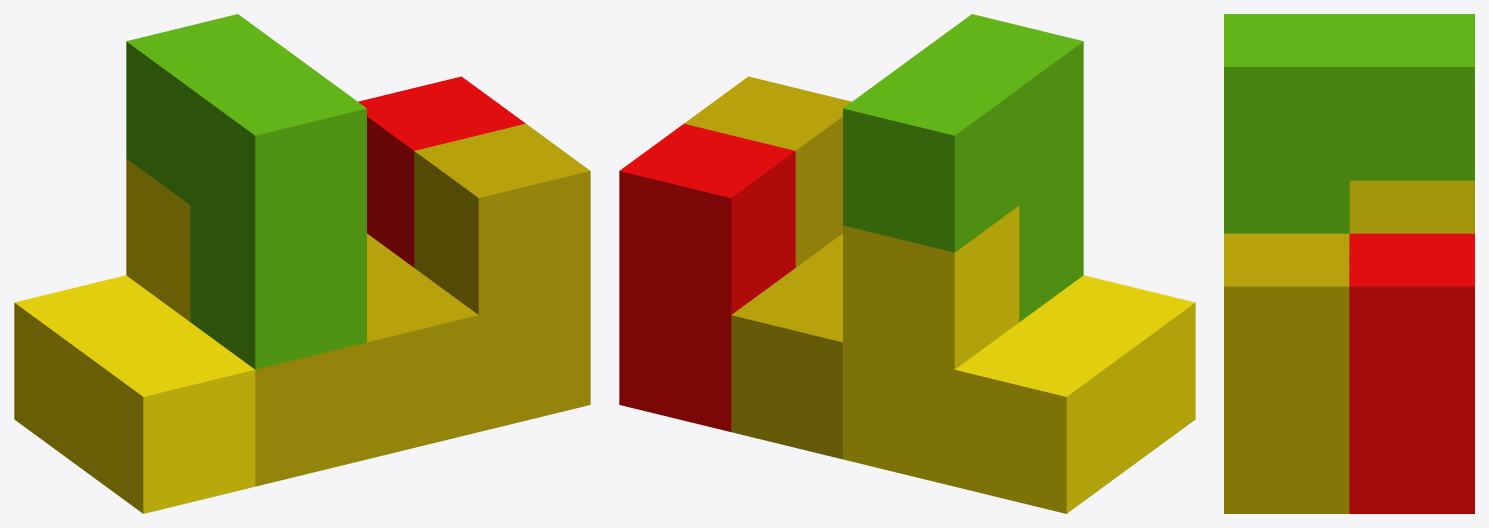
3 views of the same model, side by side, from view 1: azimuth 30°, elevation 25°; view 2: azimuth 150°, elevation 25°; view 3: azimuth 270°, elevation 25° (orthographic). The views are drawn at different scales.
Visible parts, largest first — view 1: mergedBlocks(Clone); view 2: mergedBlocks(Clone); view 3: mergedBlocks(Clone).
Part boxes in pixels (x1,y1,x2,y2): mergedBlocks(Clone): (14, 14, 590, 513); mergedBlocks(Clone): (619, 14, 1195, 513); mergedBlocks(Clone): (1224, 14, 1474, 513).
Size of the model in its own units: 4 by 3 by 2.
Materials: 4 (4 with a texture image).
